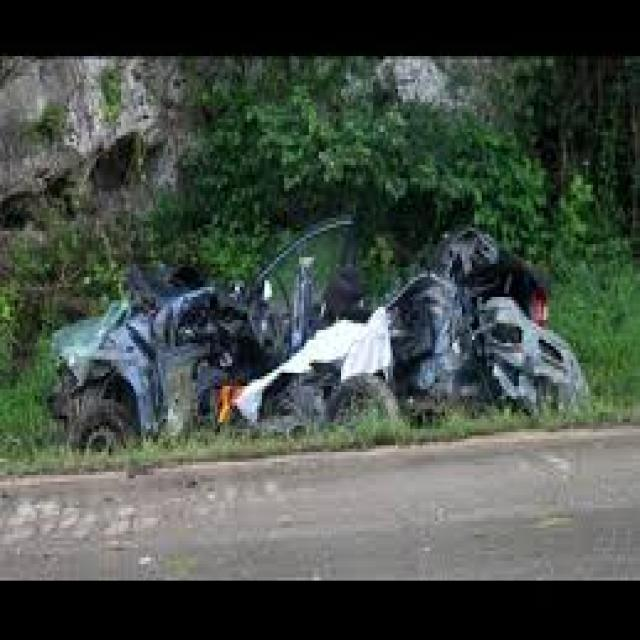accident: (29, 210, 600, 496)
